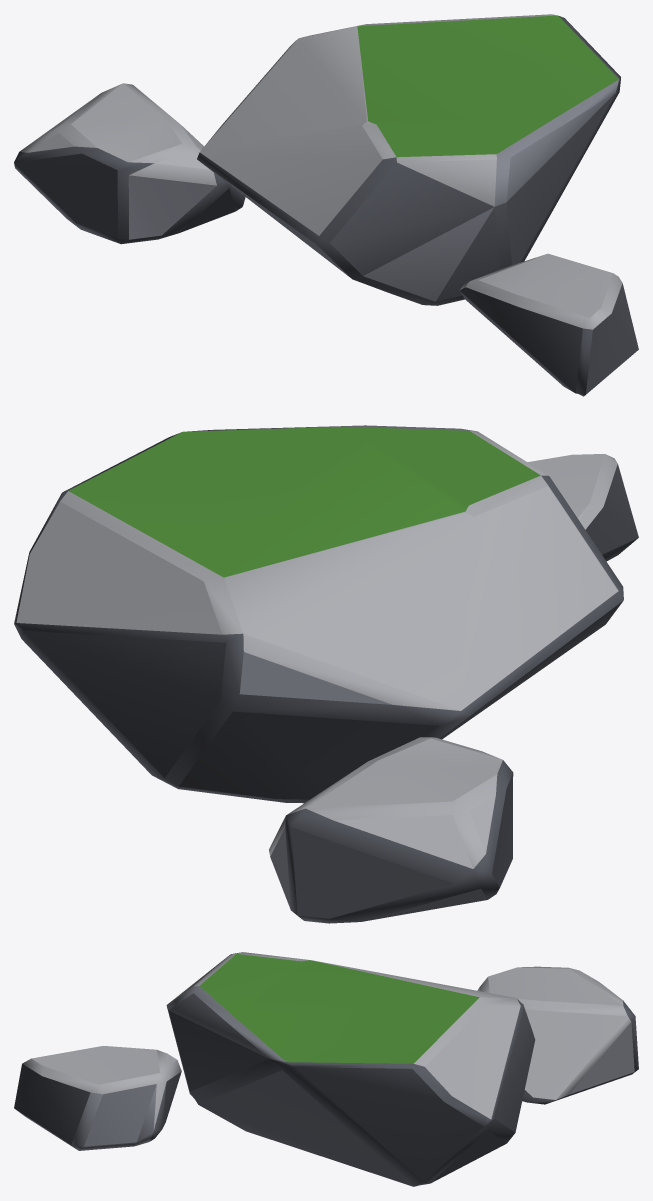
File: Rock_07.glb
3 views of the same model, one above another, from view 1: azimuth 30°, elevation 25°; view 2: azimuth 150°, elevation 25°; view 3: azimuth 270°, elevation 25° (orthographic). The views are drawn at different scales.
Visible parts, largest first — view 1: Rock_07; view 2: Rock_07; view 3: Rock_07.
Part boxes in pixels (x1,y1,x2,y2): Rock_07: (14, 14, 638, 396); Rock_07: (14, 425, 638, 923); Rock_07: (14, 952, 638, 1186).
Bounding box in the file's own units: 2.96 × 1.05 × 4.21.
